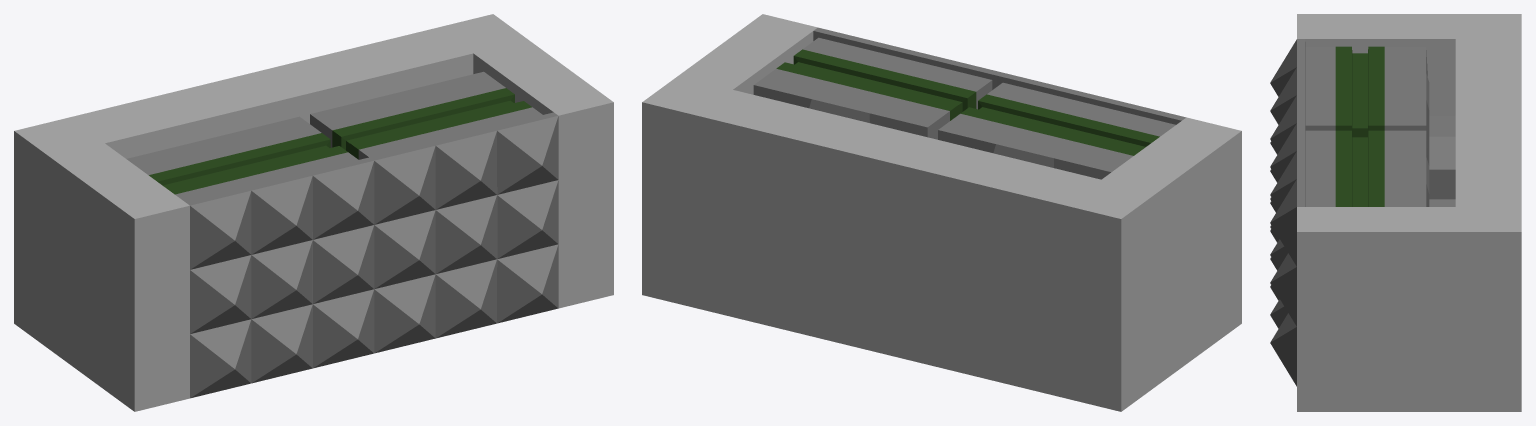
File: Crusher.fbx
3 renders of one model, left to right at view 1: azimuth 30°, elevation 25°; view 2: azimuth 150°, elevation 25°; view 3: azimuth 270°, elevation 25°, orthographic. The views are drawn at different scales.
Parts seen in each view (by area): view 1: Crusher, Wall; view 2: Wall, Crusher; view 3: Wall, Crusher.
Boxes of the visible parts, bbox=[...] form: Crusher: bbox=[126, 71, 558, 398]; Wall: bbox=[14, 14, 613, 411]; Wall: bbox=[642, 14, 1241, 411]; Crusher: bbox=[753, 27, 1185, 179]; Wall: bbox=[1297, 14, 1521, 411]; Crusher: bbox=[1270, 39, 1429, 386].
Size of the model in its own units: 390 by 150 by 190.
